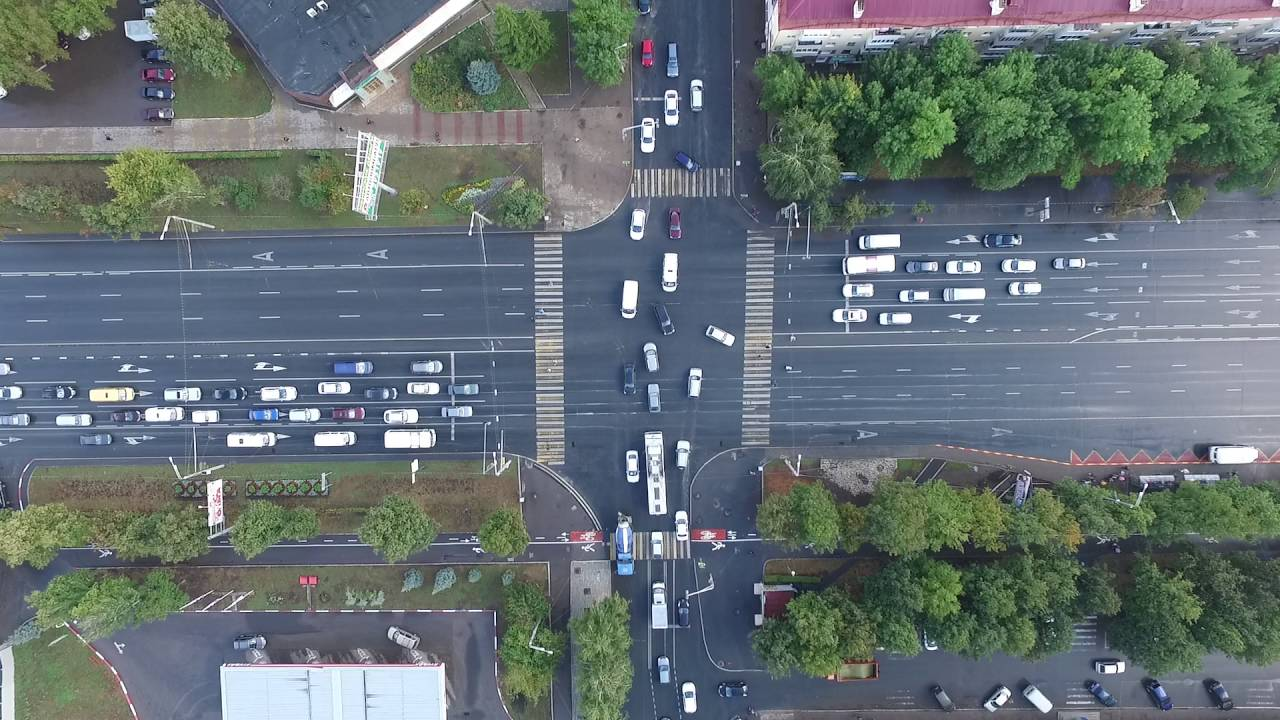car: (643, 431, 668, 515), (614, 512, 635, 575), (840, 253, 897, 276), (383, 429, 437, 449), (1208, 444, 1258, 465), (1143, 678, 1173, 713), (1022, 684, 1054, 714), (225, 431, 277, 449), (1206, 680, 1235, 712), (386, 625, 421, 650), (982, 685, 1012, 714), (651, 301, 675, 336), (651, 581, 668, 630), (1088, 681, 1118, 708), (620, 278, 639, 320), (857, 232, 901, 250), (703, 324, 735, 348), (942, 286, 986, 303), (661, 252, 679, 293), (313, 431, 358, 447), (144, 405, 184, 423), (332, 360, 374, 377), (41, 384, 78, 402), (383, 407, 419, 425), (232, 633, 268, 651), (944, 259, 982, 276), (933, 686, 956, 714), (717, 680, 749, 700), (639, 117, 656, 154), (663, 90, 680, 127), (163, 387, 202, 403), (674, 150, 701, 173), (982, 233, 1023, 248), (258, 386, 298, 401), (409, 359, 444, 376), (1001, 257, 1036, 274), (642, 341, 660, 374), (628, 208, 646, 241), (138, 68, 177, 83), (665, 41, 680, 79), (55, 412, 93, 427), (288, 407, 321, 424), (681, 681, 698, 714), (686, 366, 703, 399), (332, 405, 367, 421), (878, 311, 913, 327), (101, 410, 140, 424), (247, 407, 281, 423), (897, 288, 931, 304), (624, 449, 640, 483), (212, 387, 248, 402), (831, 308, 867, 323), (903, 259, 939, 274), (140, 86, 176, 101), (317, 380, 352, 395), (1007, 281, 1042, 296), (362, 386, 399, 400), (842, 282, 874, 298), (1052, 256, 1086, 271), (674, 439, 690, 470), (674, 509, 689, 542), (79, 432, 112, 447), (406, 381, 441, 395), (623, 360, 637, 395), (667, 207, 682, 239), (141, 48, 173, 63), (108, 386, 136, 403), (649, 530, 664, 561), (639, 39, 655, 68), (441, 405, 474, 419), (689, 79, 703, 112), (142, 108, 175, 122), (1, 412, 31, 427), (448, 383, 480, 397), (1094, 661, 1126, 675), (191, 409, 220, 424), (656, 655, 671, 684), (647, 383, 661, 414), (677, 598, 689, 628), (1, 385, 23, 401), (1, 480, 9, 509), (637, 1, 652, 15), (1, 362, 11, 377)
